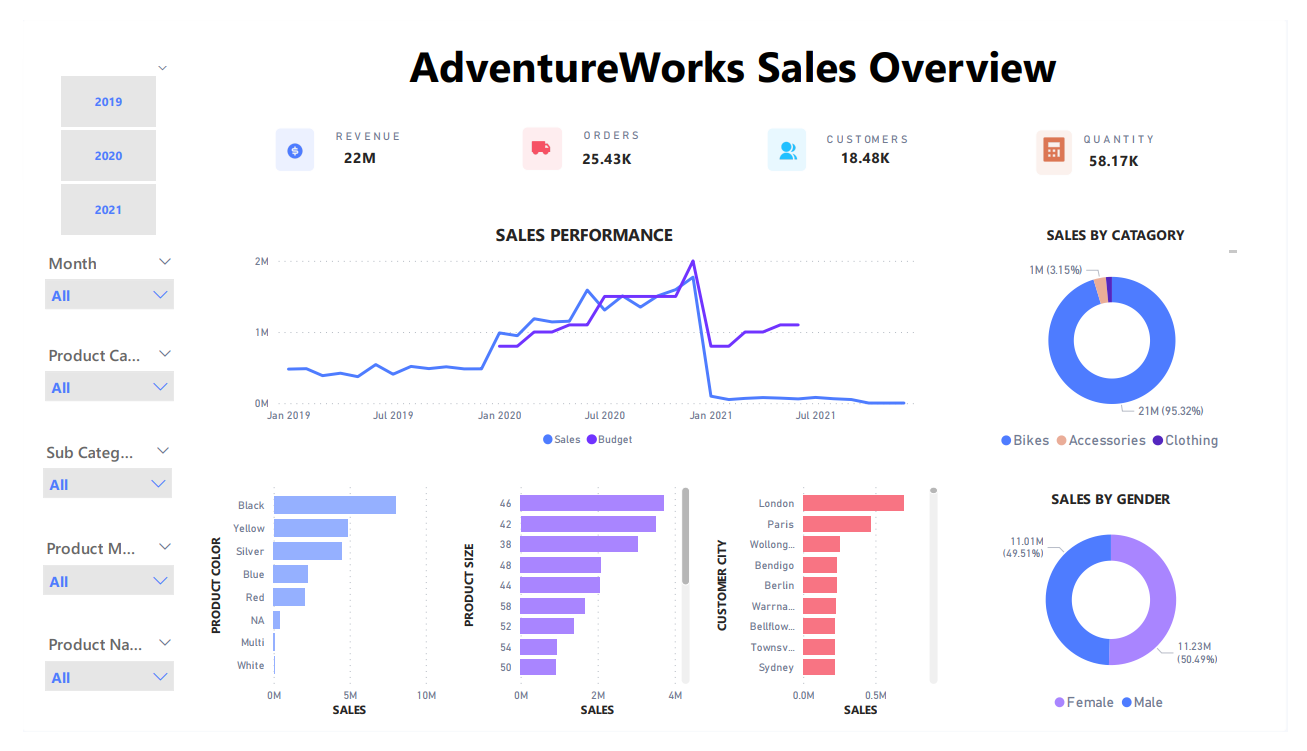

This screenshot's page, from the dashboard's own definition file:
{"tool":"powerbi","page":{"name":"Sales Overview","canvas":[1280,720],"ordinal":0},"visuals":[{"type":"basicShape","box":[181.4,81.4,1074.8,102.9],"z":0,"group":"g1"},{"type":"basicShape","box":[181.4,195.7,750,251.4],"z":0,"group":"g3"},{"type":"basicShape","title":"Shape","box":[945.7,195.7,311.4,250],"z":0,"group":"g2"},{"type":"basicShape","title":"Shape","box":[0,0,1278.6,720],"z":1000},{"type":"textbox","title":"SALES PERFORMANCE","box":[230.6,205.6,676.4,19.6],"z":1000,"group":"g3"},{"type":"textbox","box":[1058.2,301.7,96.1,20.8],"z":1000,"group":"g2"},{"type":"barChart","fields":{"Y":["Sum(FactInternetSale.SalesAmount)"],"Category":["DIM_Products.Product Size"]},"box":[437.1,460,242.9,251.4],"z":1000,"group":"g1"},{"type":"slicer","fields":{"Values":["Dim_Date_Excel.Month"]},"box":[12.9,230,150,77.1],"z":1500},{"type":"slicer","fields":{"Values":["Dim_Date_Excel.Year"]},"box":[11.4,47.1,150,172.9],"z":2000},{"type":"textbox","box":[312.6,107.4,91.9,24.1],"z":2000,"group":"g1"},{"type":"lineChart","fields":{"Y":["Measure.Sales","Measure.Budget_Amount"],"Category":["Dim_Date_Excel.Date.Variation.Date Hierarchy.Year","Dim_Date_Excel.Date.Variation.Date Hierarchy.Month"]},"box":[230.6,230.1,687.5,212.2],"z":2000,"group":"g3"},{"type":"donutChart","fields":{"Y":["Measure.Sales"],"Category":["DIM_Products.Product Category"]},"box":[947.6,235,308.7,210.4],"z":2000,"group":"g2"},{"type":"textbox","box":[563.4,106.2,91.9,24.1],"z":3000,"group":"g1"},{"type":"textbox","title":"SALES BY CATAGORY","box":[979,207.5,254.3,32.9],"z":3000,"group":"g2"},{"type":"barChart","fields":{"Category":["DIM_Customer.Customer City"],"Y":["Measure.Sales"]},"box":[692.9,460,238.6,251.4],"z":3000},{"type":"group","id":"g1","title":"KPI","box":[181.4,81.4,1074.8,630],"z":4000},{"type":"textbox","box":[809.6,110.8,120,21.4],"z":5000,"group":"g1"},{"type":"group","id":"g2","title":"Donut","box":[945.7,195.7,311.4,250],"z":5000},{"type":"textbox","box":[1069.4,110.3,123.4,24.5],"z":6000,"group":"g1"},{"type":"group","id":"g3","title":"Stacked Column Chart","box":[181.4,195.7,750,251.4],"z":6000},{"type":"textbox","box":[180.9,10.9,1075.8,71.2],"z":7000},{"type":"basicShape","box":[254.9,109.4,41.1,45.2],"z":7000,"group":"g1"},{"type":"card","fields":{"Values":["Count(DIM_Customer.CustomerKey)"]},"box":[820,128.3,66.7,26.5],"z":8000,"group":"g1"},{"type":"clusteredBarChart","fields":{"Y":["Sum(FactInternetSale.SalesAmount)"],"Category":["DIM_Products.Product Color"]},"box":[181.4,460,241.4,251.4],"z":8000},{"type":"card","fields":{"Values":["Measure.Sales"]},"box":[308.2,125.5,66.7,33.5],"z":9000,"group":"g1"},{"type":"donutChart","title":"SALES BY GENDER","fields":{"Category":["DIM_Customer.Gender"],"Y":["Sum(FactInternetSale.SalesAmount)"]},"box":[945.7,460,311.4,251.4],"z":9000},{"type":"basicShape","box":[505.8,108.1,41.1,45.2],"z":10000,"group":"g1"},{"type":"slicer","fields":{"Values":["DIM_Products.Product Category"]},"box":[12.9,322.9,150,77.1],"z":10000},{"type":"basicShape","box":[753.8,109.2,41.1,45.2],"z":11000,"group":"g1"},{"type":"slicer","fields":{"Values":["DIM_Products.Sub Category"]},"box":[11.4,421.4,150,77.1],"z":11000},{"type":"basicShape","box":[1025.5,111.5,38.4,46.8],"z":12000,"group":"g1"},{"type":"slicer","fields":{"Values":["DIM_Products.Product Name"]},"box":[12.9,615.7,150,77.1],"z":12000},{"type":"card","fields":{"Values":["Count(FactInternetSale.SalesOrderNumber)"]},"box":[548.3,127.2,86.8,30.7],"z":13000,"group":"g1"},{"type":"slicer","fields":{"Values":["DIM_Products.Product Model Name"]},"box":[11.4,518.6,151.4,77.1],"z":13000},{"type":"image","box":[262,117,27.8,30.6],"z":14000,"group":"g1"},{"type":"image","box":[508.6,114.5,32,29.2],"z":15000,"group":"g1"},{"type":"image","box":[760.4,117,29.2,30.6],"z":16000,"group":"g1"},{"type":"image","box":[1025.5,111.5,38.4,40.1],"z":17000,"group":"g1"},{"type":"card","fields":{"Values":["CountNonNull(FactInternetSale.SalesOrderNumber)"]},"box":[1074,126.7,61.2,37.6],"z":18000,"group":"g1"}]}

Visuals, with their boxes in screenshot pixels (x1, y1, x2, y2), scaled from the page's 1280x720 canvas onto the 1307x751 screenshot:
basicShape: {"x1": 185, "y1": 85, "x2": 1283, "y2": 192}
basicShape: {"x1": 185, "y1": 204, "x2": 951, "y2": 466}
"Shape" basicShape: {"x1": 966, "y1": 204, "x2": 1284, "y2": 465}
"Shape" basicShape: {"x1": 0, "y1": 0, "x2": 1306, "y2": 750}
"SALES PERFORMANCE" textbox: {"x1": 235, "y1": 214, "x2": 926, "y2": 235}
textbox: {"x1": 1081, "y1": 315, "x2": 1179, "y2": 336}
barChart - Sum(FactInternetSale.SalesAmount) x DIM_Products.Product Size: {"x1": 446, "y1": 480, "x2": 694, "y2": 742}
slicer - Dim_Date_Excel.Month: {"x1": 13, "y1": 240, "x2": 166, "y2": 320}
slicer - Dim_Date_Excel.Year: {"x1": 12, "y1": 49, "x2": 165, "y2": 229}
textbox: {"x1": 319, "y1": 112, "x2": 413, "y2": 137}
lineChart - Measure.Sales x Measure.Budget_Amount: {"x1": 235, "y1": 240, "x2": 937, "y2": 461}
donutChart - Measure.Sales x DIM_Products.Product Category: {"x1": 968, "y1": 245, "x2": 1283, "y2": 465}
textbox: {"x1": 575, "y1": 111, "x2": 669, "y2": 136}
"SALES BY CATAGORY" textbox: {"x1": 1000, "y1": 216, "x2": 1259, "y2": 251}
barChart - DIM_Customer.Customer City x Measure.Sales: {"x1": 708, "y1": 480, "x2": 951, "y2": 742}
"KPI" group: {"x1": 185, "y1": 85, "x2": 1283, "y2": 742}
textbox: {"x1": 827, "y1": 116, "x2": 949, "y2": 138}
"Donut" group: {"x1": 966, "y1": 204, "x2": 1284, "y2": 465}
textbox: {"x1": 1092, "y1": 115, "x2": 1218, "y2": 141}
"Stacked Column Chart" group: {"x1": 185, "y1": 204, "x2": 951, "y2": 466}
textbox: {"x1": 185, "y1": 11, "x2": 1283, "y2": 86}
basicShape: {"x1": 260, "y1": 114, "x2": 302, "y2": 161}
card - Count(DIM_Customer.CustomerKey): {"x1": 837, "y1": 134, "x2": 905, "y2": 161}
clusteredBarChart - Sum(FactInternetSale.SalesAmount) x DIM_Products.Product Color: {"x1": 185, "y1": 480, "x2": 432, "y2": 742}
card - Measure.Sales: {"x1": 315, "y1": 131, "x2": 383, "y2": 166}
"SALES BY GENDER" donutChart: {"x1": 966, "y1": 480, "x2": 1284, "y2": 742}
basicShape: {"x1": 516, "y1": 113, "x2": 558, "y2": 160}
slicer - DIM_Products.Product Category: {"x1": 13, "y1": 337, "x2": 166, "y2": 417}
basicShape: {"x1": 770, "y1": 114, "x2": 812, "y2": 161}
slicer - DIM_Products.Sub Category: {"x1": 12, "y1": 440, "x2": 165, "y2": 520}
basicShape: {"x1": 1047, "y1": 116, "x2": 1086, "y2": 165}
slicer - DIM_Products.Product Name: {"x1": 13, "y1": 642, "x2": 166, "y2": 723}
card - Count(FactInternetSale.SalesOrderNumber): {"x1": 560, "y1": 133, "x2": 648, "y2": 165}
slicer - DIM_Products.Product Model Name: {"x1": 12, "y1": 541, "x2": 166, "y2": 621}
image: {"x1": 268, "y1": 122, "x2": 296, "y2": 154}
image: {"x1": 519, "y1": 119, "x2": 552, "y2": 150}
image: {"x1": 776, "y1": 122, "x2": 806, "y2": 154}
image: {"x1": 1047, "y1": 116, "x2": 1086, "y2": 158}
card - CountNonNull(FactInternetSale.SalesOrderNumber): {"x1": 1097, "y1": 132, "x2": 1159, "y2": 171}
